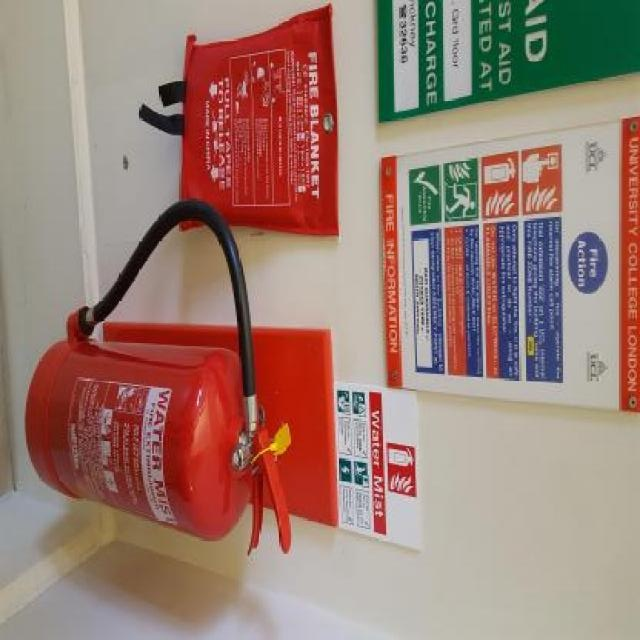fire extinguisher: (26, 199, 291, 553)
